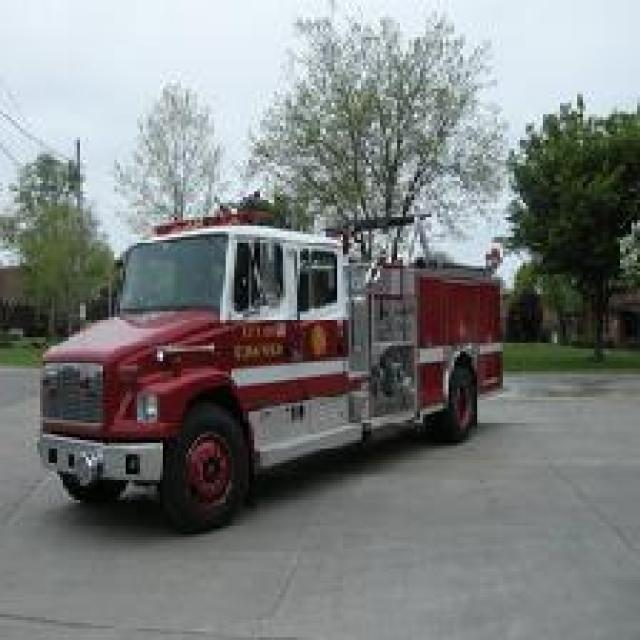Fire-truck: (34, 188, 506, 532)
